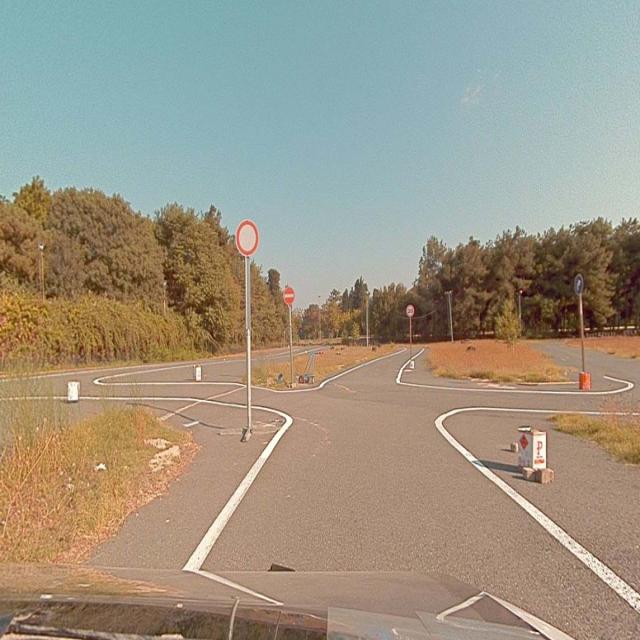20: (405, 304, 414, 316)
girisyok: (284, 288, 294, 304)
sag: (575, 274, 584, 294)
